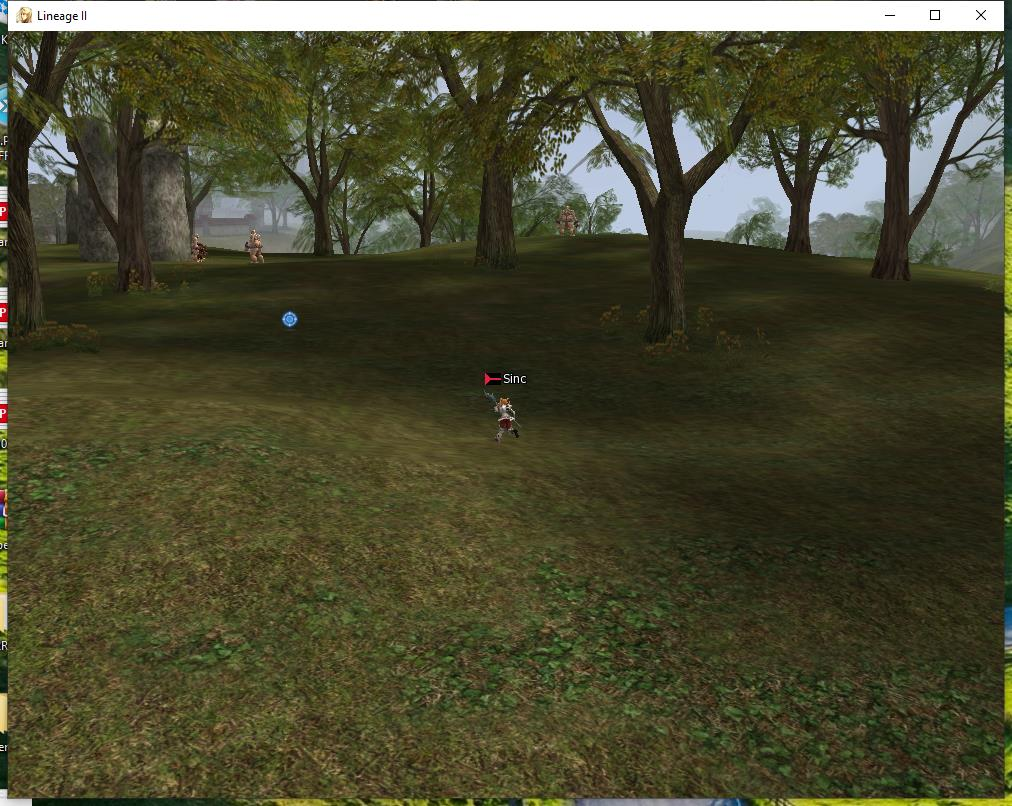monster: (234, 222, 277, 271), (555, 196, 583, 244), (187, 229, 207, 266)
